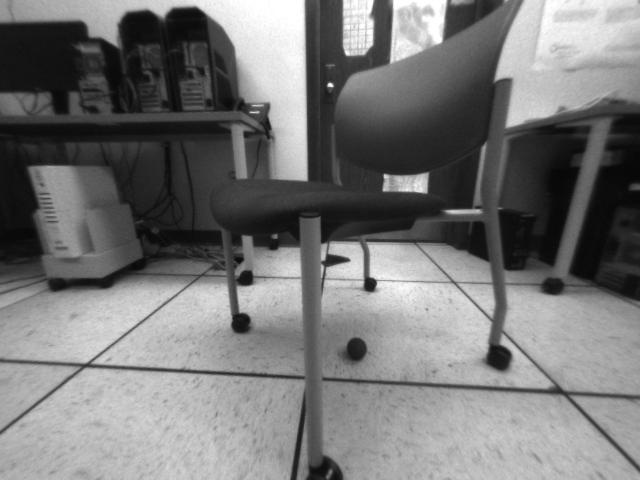dogtoy: (339, 330, 376, 363)
